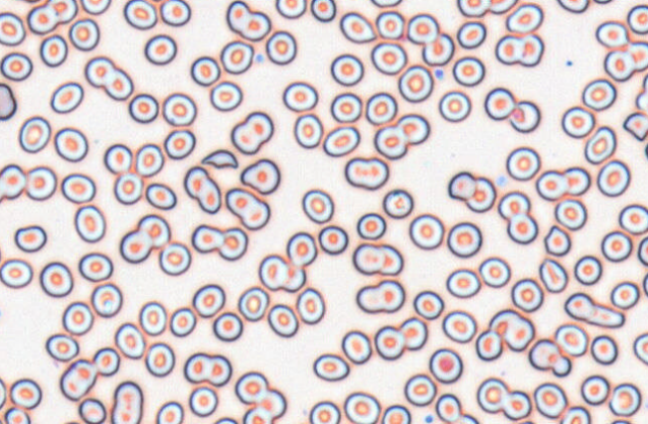PLT: (433, 68, 446, 81), (496, 175, 509, 187), (255, 52, 266, 64), (425, 412, 434, 424)
RBC: (225, 187, 270, 230), (488, 309, 534, 351), (230, 111, 273, 154), (258, 253, 305, 292), (355, 279, 405, 313), (528, 338, 571, 377), (183, 352, 232, 386), (59, 358, 97, 401), (344, 156, 389, 190), (110, 380, 143, 424), (240, 158, 280, 194), (398, 64, 433, 102), (408, 213, 444, 249), (596, 159, 630, 197), (447, 221, 482, 257), (584, 125, 616, 164), (533, 382, 567, 418), (39, 261, 73, 297), (18, 115, 50, 153), (505, 146, 540, 180), (428, 348, 462, 383), (54, 127, 88, 162), (476, 377, 509, 413), (370, 42, 406, 75), (343, 391, 380, 423), (339, 11, 376, 43), (505, 2, 543, 33), (74, 204, 105, 242), (322, 125, 360, 156), (373, 125, 407, 159), (554, 323, 588, 357), (162, 92, 196, 126), (158, 241, 191, 276), (441, 310, 476, 343), (581, 78, 616, 111), (301, 188, 334, 223), (114, 322, 145, 359), (119, 229, 152, 263), (234, 371, 268, 404), (421, 32, 454, 66), (192, 283, 225, 317), (510, 278, 543, 312), (608, 382, 641, 416), (220, 40, 253, 74), (90, 282, 122, 317), (237, 286, 269, 321), (25, 165, 57, 200), (465, 176, 496, 212), (286, 231, 317, 267), (282, 81, 318, 112), (295, 287, 325, 324), (137, 214, 170, 247), (403, 373, 436, 406), (561, 105, 594, 138), (330, 53, 363, 86), (365, 91, 397, 125), (374, 325, 405, 360), (60, 172, 95, 203), (265, 30, 296, 65), (50, 81, 83, 113), (554, 198, 587, 230), (438, 90, 471, 122), (267, 303, 298, 337), (62, 301, 93, 335), (145, 342, 175, 377), (341, 329, 371, 364), (538, 258, 568, 293), (78, 252, 113, 282), (445, 268, 480, 298), (293, 113, 323, 148), (312, 353, 349, 381), (603, 49, 635, 81), (508, 100, 540, 132), (600, 230, 632, 262), (217, 227, 248, 260), (484, 87, 515, 120), (396, 113, 429, 144), (535, 169, 568, 200), (406, 13, 439, 44), (68, 18, 99, 51), (144, 34, 177, 65), (209, 80, 242, 111), (134, 143, 164, 177), (352, 243, 384, 274), (9, 378, 41, 409), (478, 256, 510, 287), (103, 67, 133, 100), (497, 190, 530, 220), (26, 4, 59, 34), (0, 258, 33, 288), (123, 0, 157, 29), (138, 301, 167, 335), (506, 213, 537, 244), (191, 223, 223, 253), (113, 172, 143, 204), (163, 129, 195, 159), (0, 51, 32, 81), (452, 56, 484, 86), (330, 92, 362, 122), (398, 317, 427, 350), (45, 333, 79, 361), (587, 303, 625, 328), (0, 163, 26, 199), (84, 56, 114, 87), (188, 386, 218, 417), (212, 311, 243, 341), (382, 188, 413, 218), (190, 55, 220, 86), (618, 203, 648, 234), (412, 290, 444, 319), (595, 20, 628, 48), (39, 34, 67, 67), (128, 93, 158, 123), (257, 388, 286, 419), (103, 143, 132, 174), (580, 374, 609, 405), (573, 254, 602, 285), (543, 224, 571, 256), (14, 224, 46, 252), (0, 11, 25, 46), (564, 292, 594, 321), (502, 390, 531, 420), (318, 225, 348, 254), (145, 182, 176, 210), (590, 334, 618, 365), (475, 329, 502, 361), (447, 171, 476, 200), (610, 280, 639, 309), (375, 10, 404, 39), (495, 34, 523, 64), (92, 346, 120, 376), (356, 212, 386, 240), (456, 21, 486, 49), (169, 306, 196, 337), (183, 166, 209, 198), (159, 0, 191, 26), (226, 0, 250, 33), (563, 166, 590, 195), (435, 393, 462, 422), (519, 34, 543, 66), (308, 400, 340, 424), (78, 397, 106, 424), (379, 244, 403, 275), (155, 400, 184, 424), (47, 0, 77, 23), (627, 4, 648, 34), (0, 82, 16, 120), (559, 405, 591, 424), (628, 41, 648, 71), (381, 404, 411, 424), (456, 0, 490, 17), (310, 0, 336, 22), (275, 0, 306, 18), (242, 406, 272, 424), (635, 72, 648, 113), (633, 332, 648, 365), (4, 406, 30, 424), (80, 0, 111, 15), (556, 0, 589, 13), (488, 0, 517, 14), (637, 235, 648, 266), (455, 413, 479, 424), (369, 0, 402, 7), (212, 416, 238, 424), (0, 377, 6, 409), (606, 418, 634, 424), (642, 270, 648, 297), (642, 71, 648, 93), (511, 420, 540, 424), (644, 138, 648, 164), (14, 0, 48, 3), (59, 420, 84, 424), (592, 0, 615, 4), (0, 236, 3, 266)
Schistocyte: (622, 114, 648, 143), (202, 149, 237, 169)
